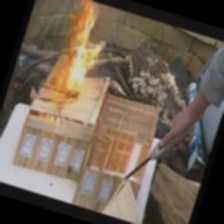fire: (38, 0, 114, 109)
